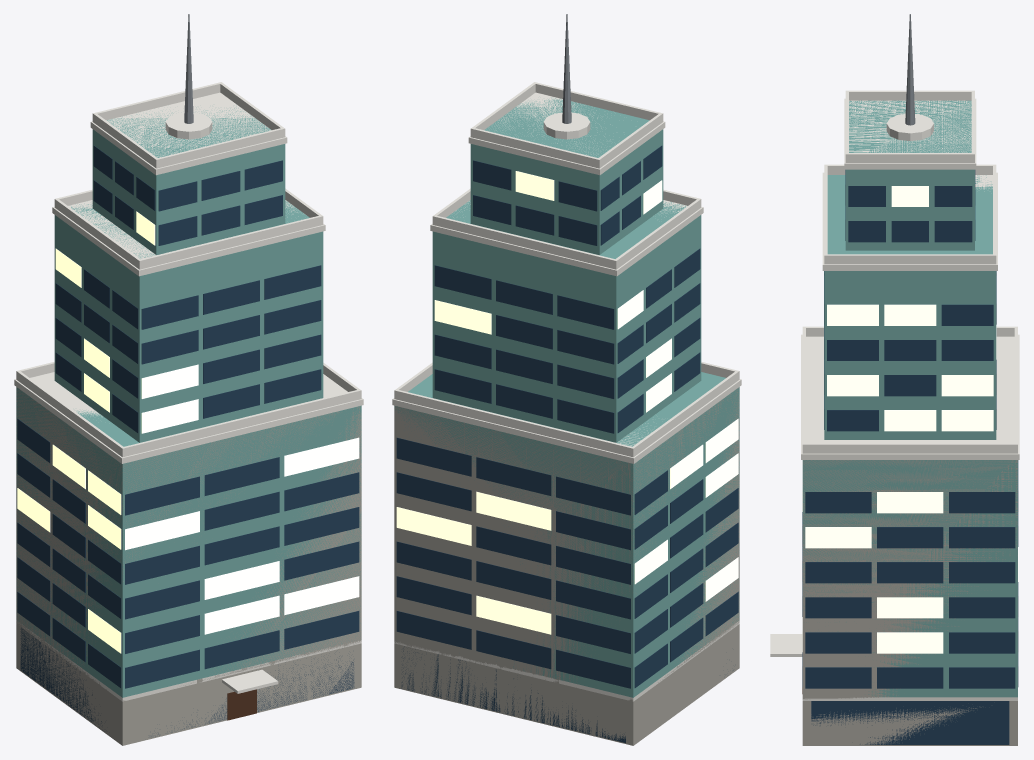
Rendered from BLD_Tower_B.fbx.
3 views of the same model, side by side, from view 1: azimuth 30°, elevation 25°; view 2: azimuth 150°, elevation 25°; view 3: azimuth 270°, elevation 25° (orthographic).
Parts seen in each view (by area): view 1: BLD_Tower_B__BODY, BLD_Tower_B__COL_T5; view 2: BLD_Tower_B__BODY, BLD_Tower_B__COL_T5; view 3: BLD_Tower_B__BODY, BLD_Tower_B__COL_T5.
Boxes of the visible parts, x1=… form: BLD_Tower_B__BODY: x1=14, y1=14, x2=363, y2=736; BLD_Tower_B__COL_T5: x1=16, y1=387, x2=361, y2=745; BLD_Tower_B__BODY: x1=392, y1=14, x2=741, y2=742; BLD_Tower_B__COL_T5: x1=394, y1=388, x2=739, y2=745; BLD_Tower_B__BODY: x1=770, y1=14, x2=1019, y2=744; BLD_Tower_B__COL_T5: x1=802, y1=460, x2=1017, y2=745.
Size of the model in its own units: 26.3 by 69 by 23.15.
